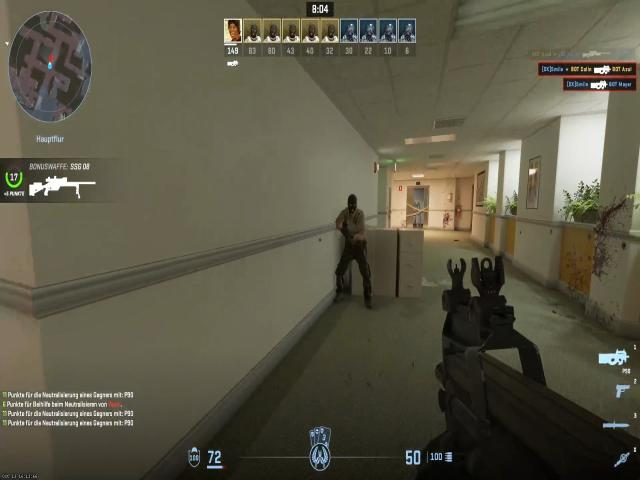T: (338, 194, 368, 255)
T-Head: (342, 192, 361, 218)
